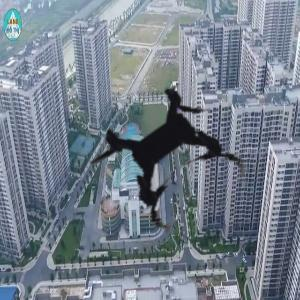drone: (47, 30, 293, 276)
